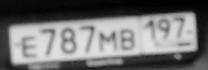license-plateSW: (7, 9, 199, 66)
